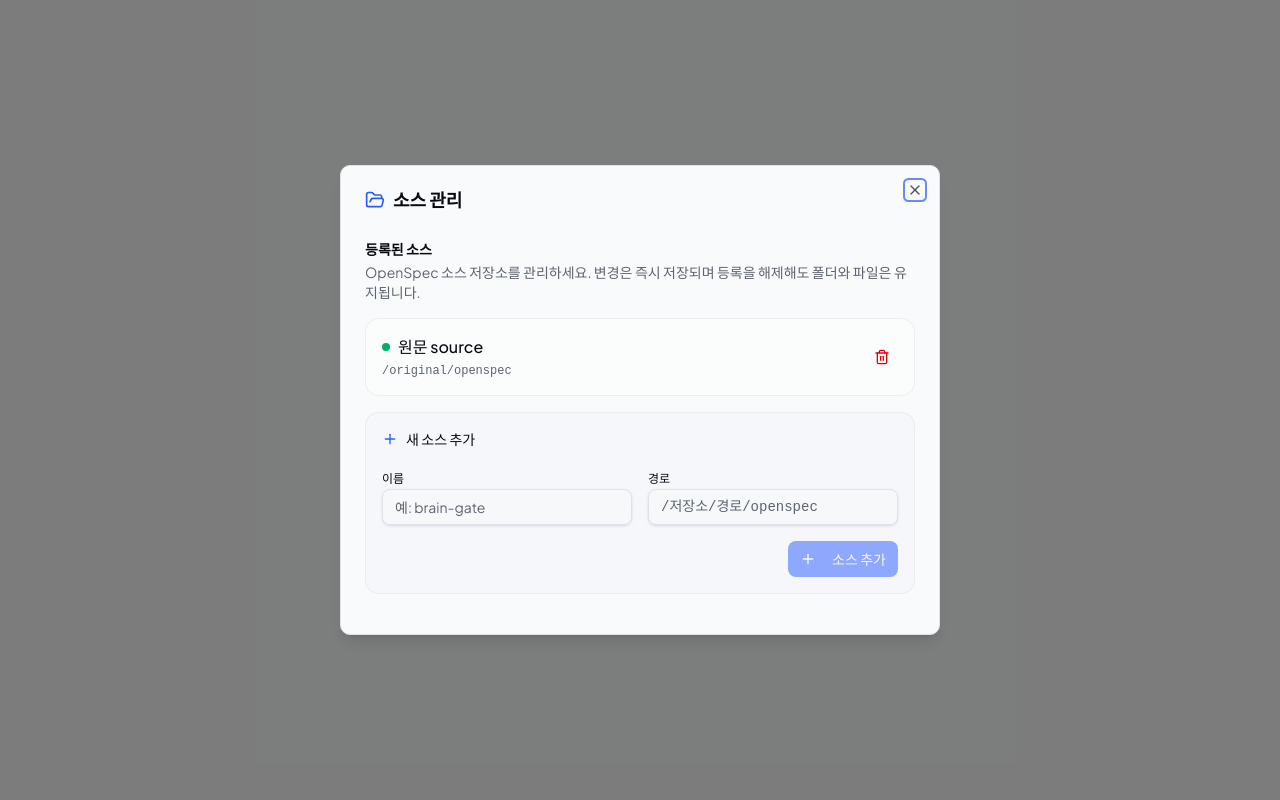
Test: 등록 해제는 목록 저장만 요청하고 응답으로 갱신한다
Expected: the text "원문 source" is shown, [398,335,483,359]
Click the button named "원문 source 등록 해제" at (882, 357), box [866,341,898,373]
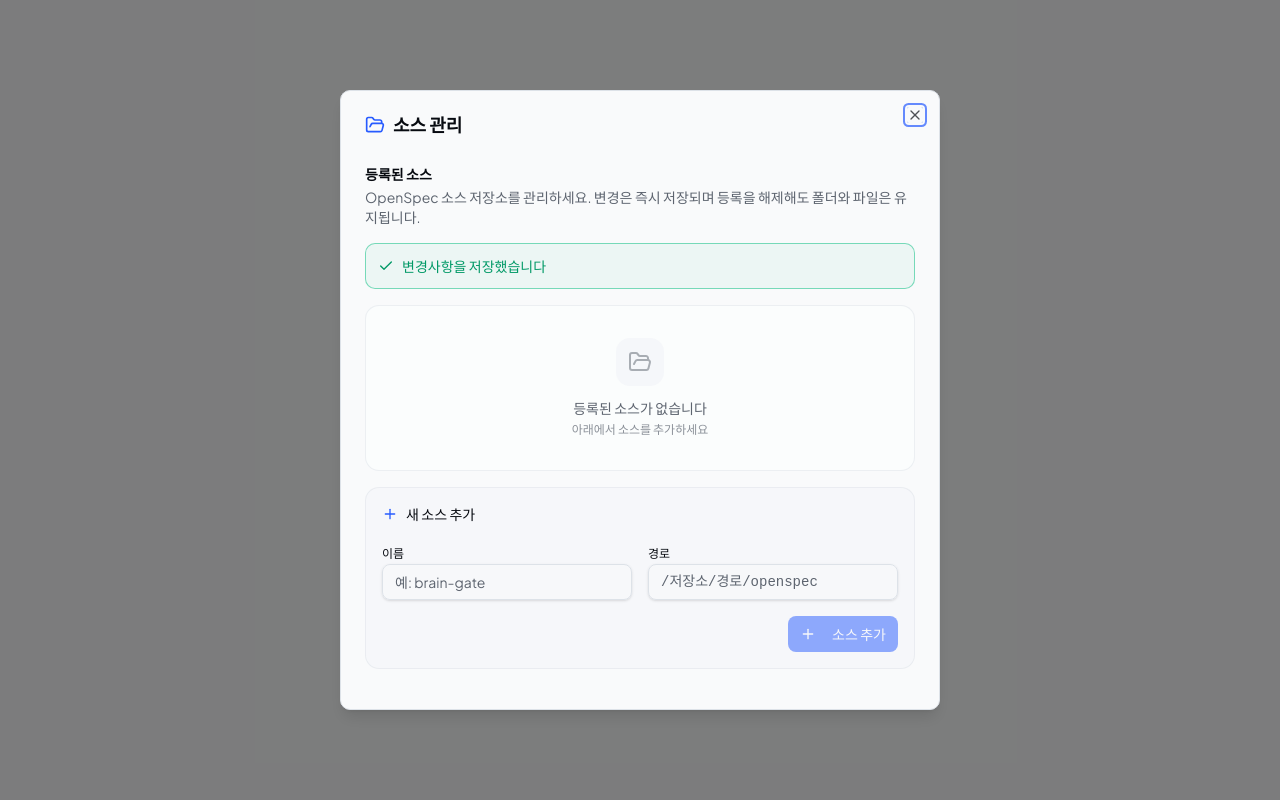
Result: the text "등록된 소스가 없습니다" is shown at [573,399,707,417]
